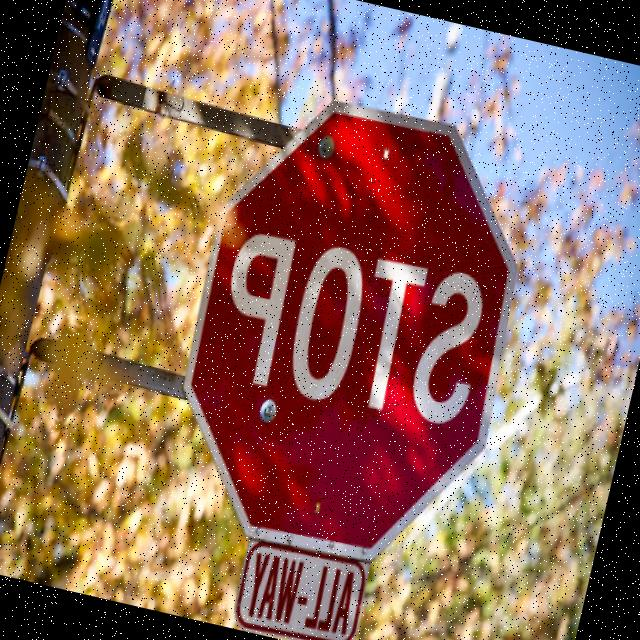stop: (147, 64, 558, 582)
